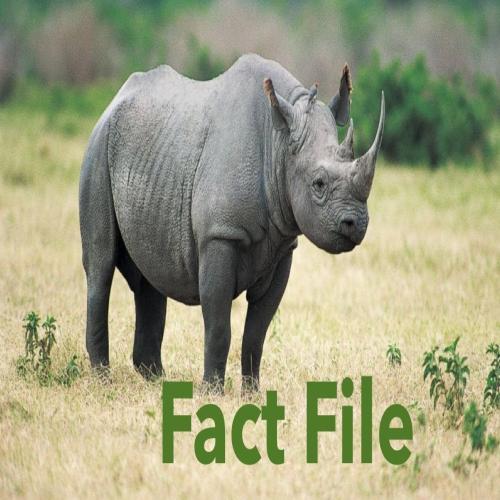rhino-endangered: (79, 57, 377, 382)
